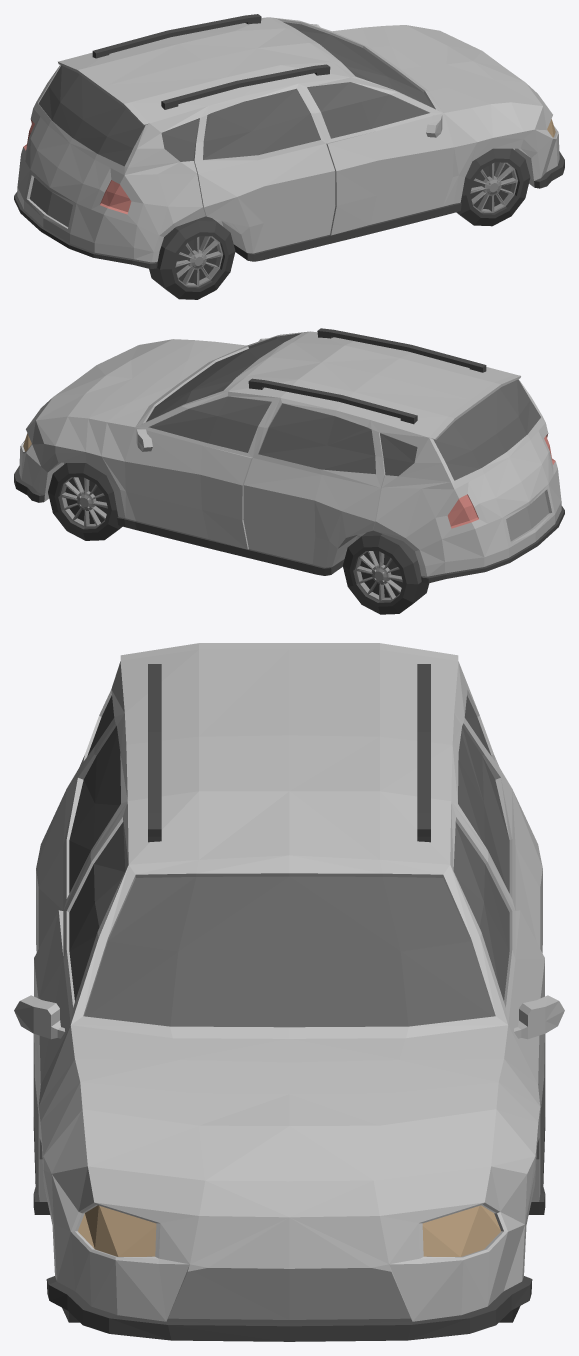
The model's file is suv.glb.
3 renders of one model, top to bottom at view 1: azimuth 30°, elevation 25°; view 2: azimuth 150°, elevation 25°; view 3: azimuth 270°, elevation 25°, orthographic. The views are drawn at different scales.
Visible parts, largest first — view 1: hull, wheels; view 2: hull, wheels; view 3: hull.
Boxes of the visible parts, x1,y1,x2,y2 form: hull: (14,14,564,268); wheels: (149,148,530,299); hull: (14,328,564,583); wheels: (48,463,429,614); hull: (14,643,564,1341).
Size of the model in its own units: 4.21 by 1.53 by 2.11.
